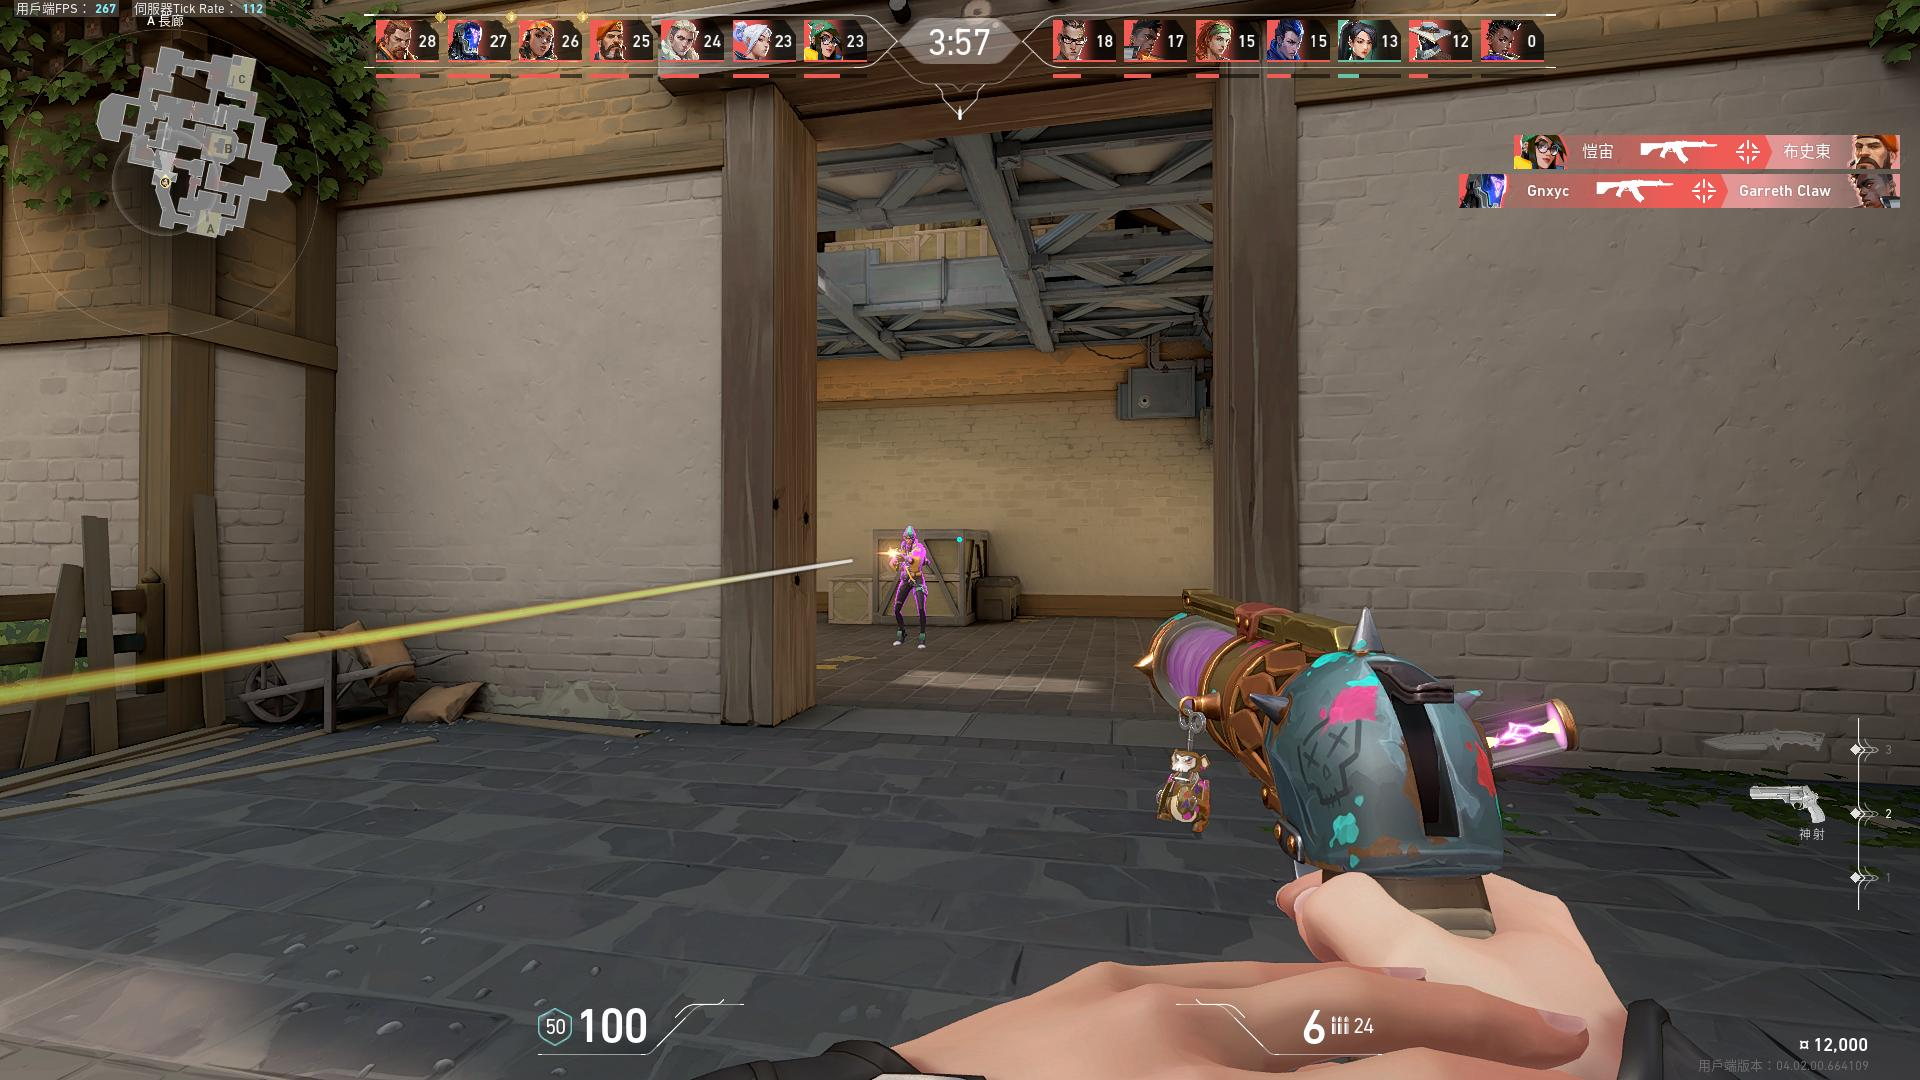enemyBody: (903, 547, 919, 579)
enemyHead: (906, 535, 913, 545)
